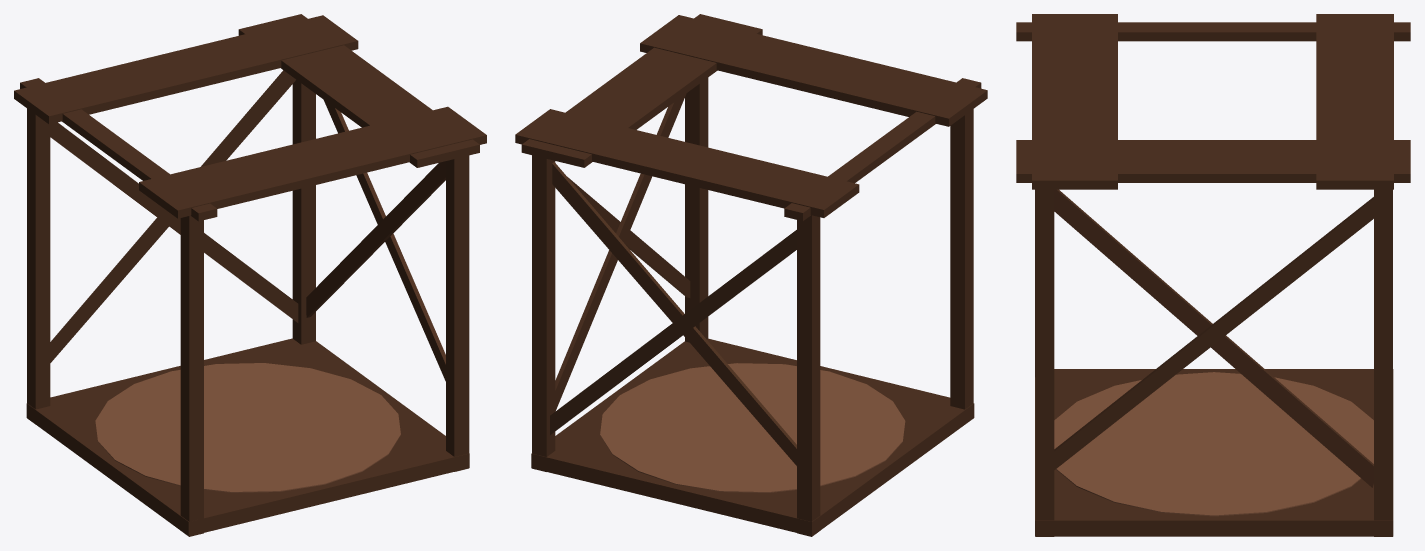
The model's file is Estructura.fbx.
3 renders of one model, left to right at view 1: azimuth 30°, elevation 25°; view 2: azimuth 150°, elevation 25°; view 3: azimuth 270°, elevation 25°, orthographic. The views are drawn at different scales.
Visible parts, largest first — view 1: polySurface11, polySurface1; view 2: polySurface11, polySurface1; view 3: polySurface11, polySurface1.
Boxes of the visible parts, left/top/right/bottom form: polySurface11: left=14, top=14, right=486, bottom=536; polySurface1: left=95, top=363, right=400, bottom=492; polySurface11: left=515, top=14, right=987, bottom=536; polySurface1: left=600, top=363, right=905, bottom=492; polySurface11: left=1016, top=14, right=1410, bottom=536; polySurface1: left=1054, top=372, right=1373, bottom=516.
Size of the model in its own units: 15.44 by 15.8 by 15.44.
